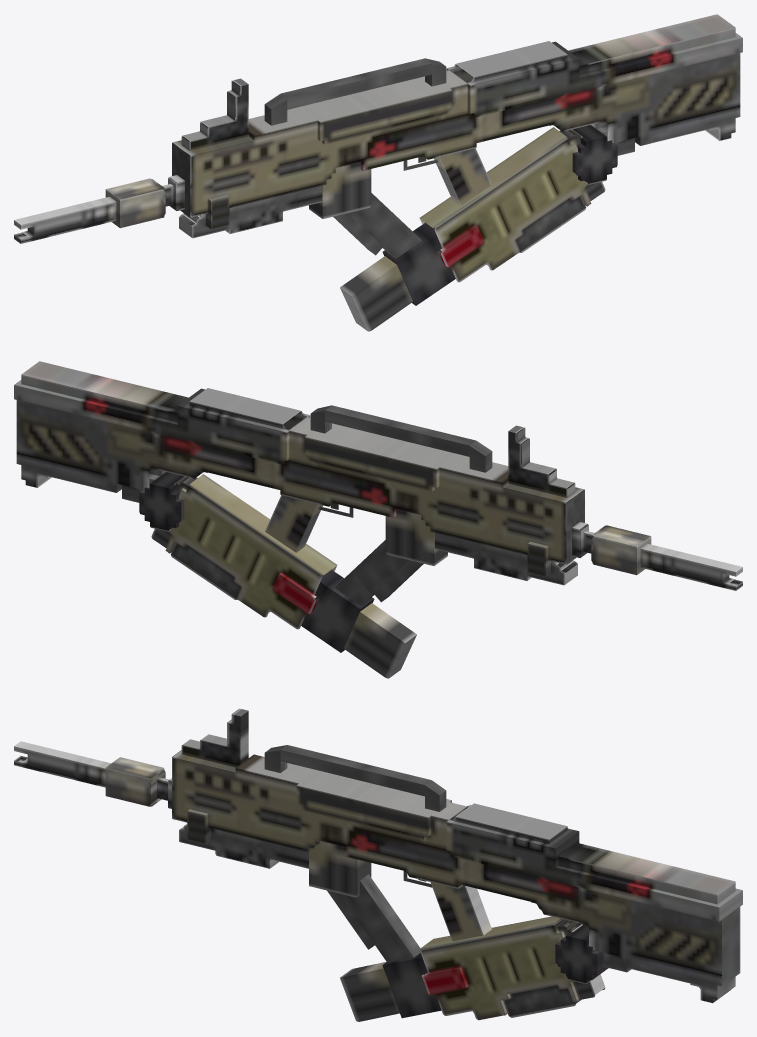
File: sungmoi_2.fbx
3 renders of one model, top to bottom at view 1: azimuth 30°, elevation 25°; view 2: azimuth 150°, elevation 25°; view 3: azimuth 330°, elevation 25°, orthographic.
Parts seen in each view (by area): view 1: gunn_ADD VOXEL.001, gunn_ADD VOXEL, Cube, Cube.005, Cube.004, Cube.003, Cube.002, Cube.001, gunn_ADD VOXEL.002; view 2: gunn_ADD VOXEL.001, gunn_ADD VOXEL, Cube, Cube.005, Cube.004, Cube.003, Cube.002, Cube.001, gunn_ADD VOXEL.002; view 3: gunn_ADD VOXEL.001, gunn_ADD VOXEL, Cube, Cube.003, Cube.002, Cube.005, Cube.001, Cube.004, gunn_ADD VOXEL.002.
Part boxes in pixels (box(x1,y1,x2,y2)): gunn_ADD VOXEL.001: box(14, 14, 742, 243); gunn_ADD VOXEL: box(419, 127, 605, 282); Cube: box(264, 58, 446, 125); Cube.005: box(340, 256, 412, 331); Cube.004: box(382, 222, 455, 305); Cube.003: box(333, 193, 422, 258); Cube.002: box(309, 162, 371, 218); Cube.001: box(434, 148, 491, 205); gunn_ADD VOXEL.002: box(572, 125, 617, 184); gunn_ADD VOXEL.001: box(14, 361, 742, 590); gunn_ADD VOXEL: box(151, 474, 337, 629); Cube: box(310, 405, 492, 472); Cube.005: box(344, 603, 416, 678); Cube.004: box(301, 569, 374, 652); Cube.003: box(334, 540, 423, 605); Cube.002: box(385, 509, 447, 565); Cube.001: box(265, 495, 322, 552); gunn_ADD VOXEL.002: box(139, 472, 184, 531); gunn_ADD VOXEL.001: box(14, 708, 742, 1003); gunn_ADD VOXEL: box(419, 916, 605, 1020); Cube: box(264, 745, 446, 811); Cube.003: box(327, 874, 420, 962); Cube.002: box(309, 841, 371, 897); Cube.005: box(340, 962, 399, 1021); Cube.001: box(430, 882, 491, 941); Cube.004: box(382, 953, 441, 1018); gunn_ADD VOXEL.002: box(555, 924, 608, 984).
Size of the model in its own units: 1570 by 580 by 90.
